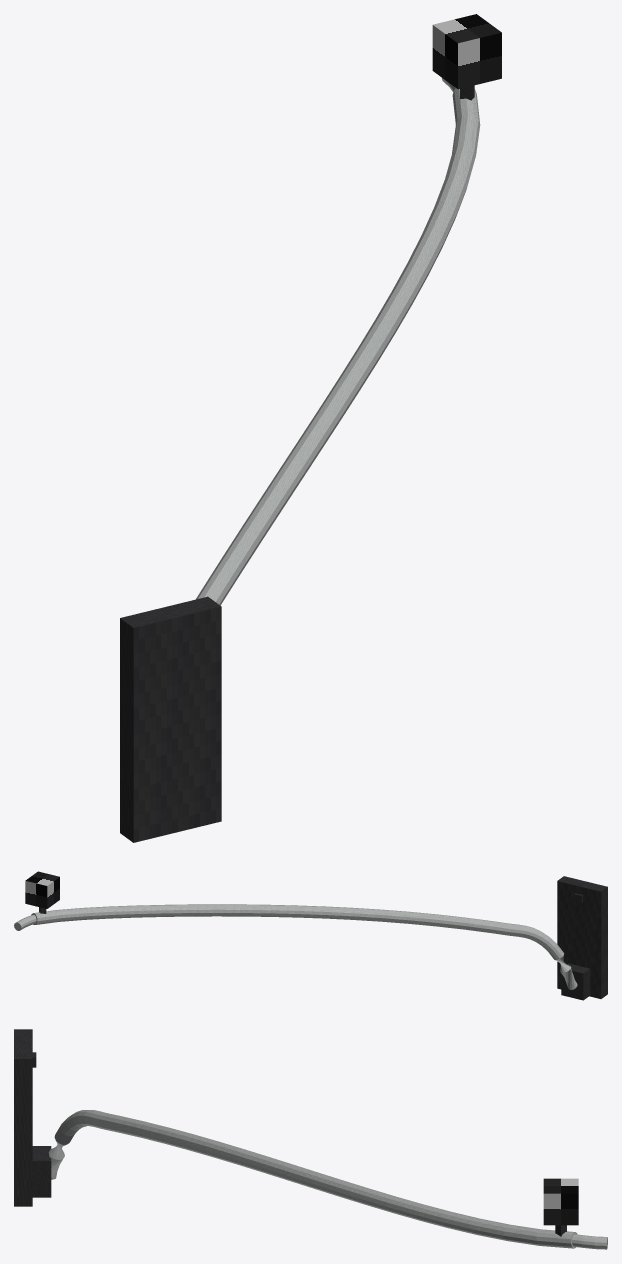
The model's file is arm_4_right.obj.
The picture shows the model from 3 angles, top to bottom: view 1: azimuth 30°, elevation 25°; view 2: azimuth 150°, elevation 25°; view 3: azimuth 270°, elevation 25°; orthographic projection. The views are drawn at different scales.
Parts seen in each view (by area): view 1: pole_light_mount_4_right; view 2: pole_light_mount_4_right; view 3: pole_light_mount_4_right.
Part boxes in pixels (x1,y1,x2,y2): pole_light_mount_4_right: (120,14,501,842); pole_light_mount_4_right: (14,871,607,1000); pole_light_mount_4_right: (14,1029,607,1249).
Bounding box in the file's own units: 3.22 × 1.4 × 3.19.
